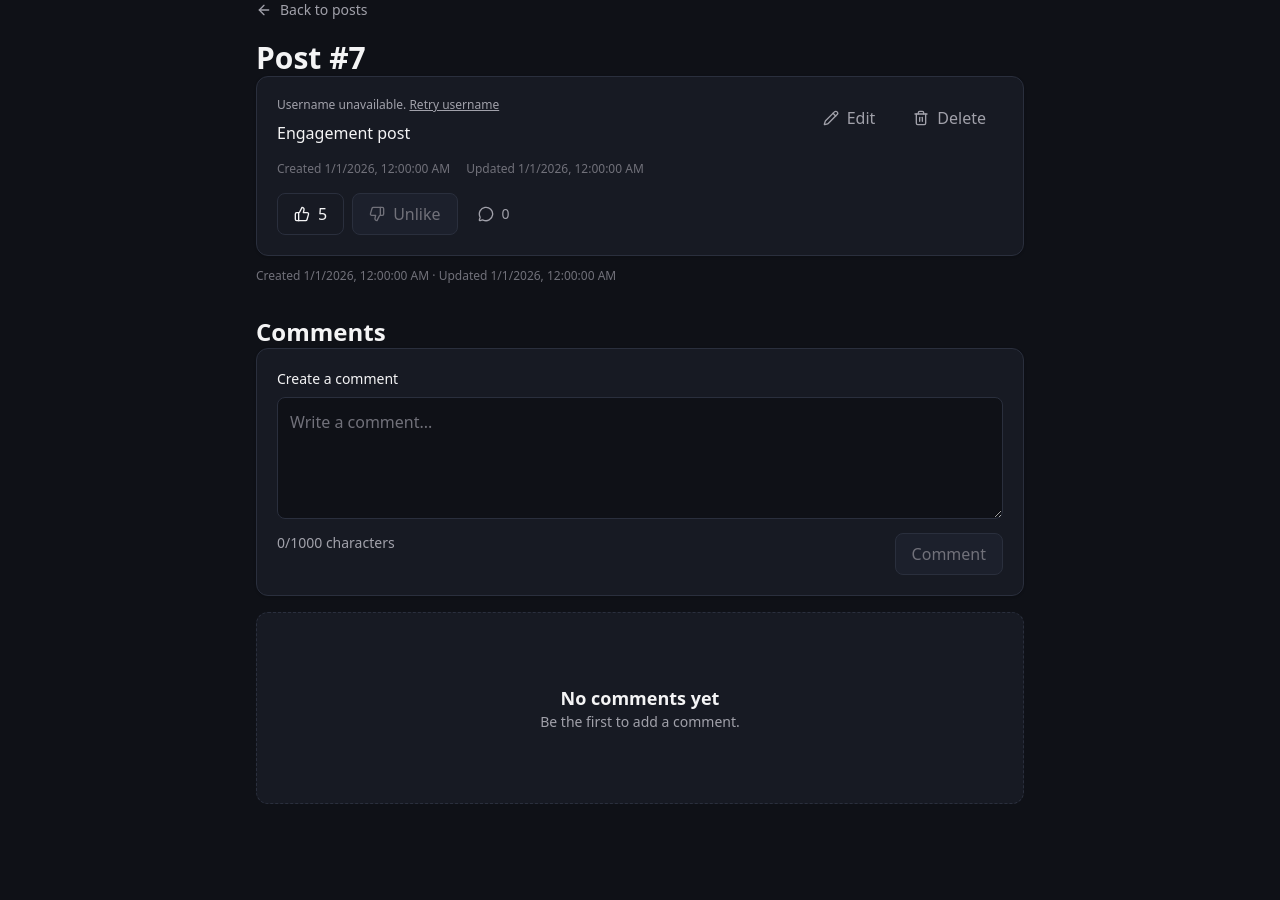
Test: Phase 4 engagement summaries › refreshes the parent post comment count after comment creation and deletion
Expected: the link named "0 comments on post 7" is shown, [478, 204, 510, 223]
Type "Created comment" into the text box labelled "Create a comment" at (640, 458), box [277, 397, 1003, 519]
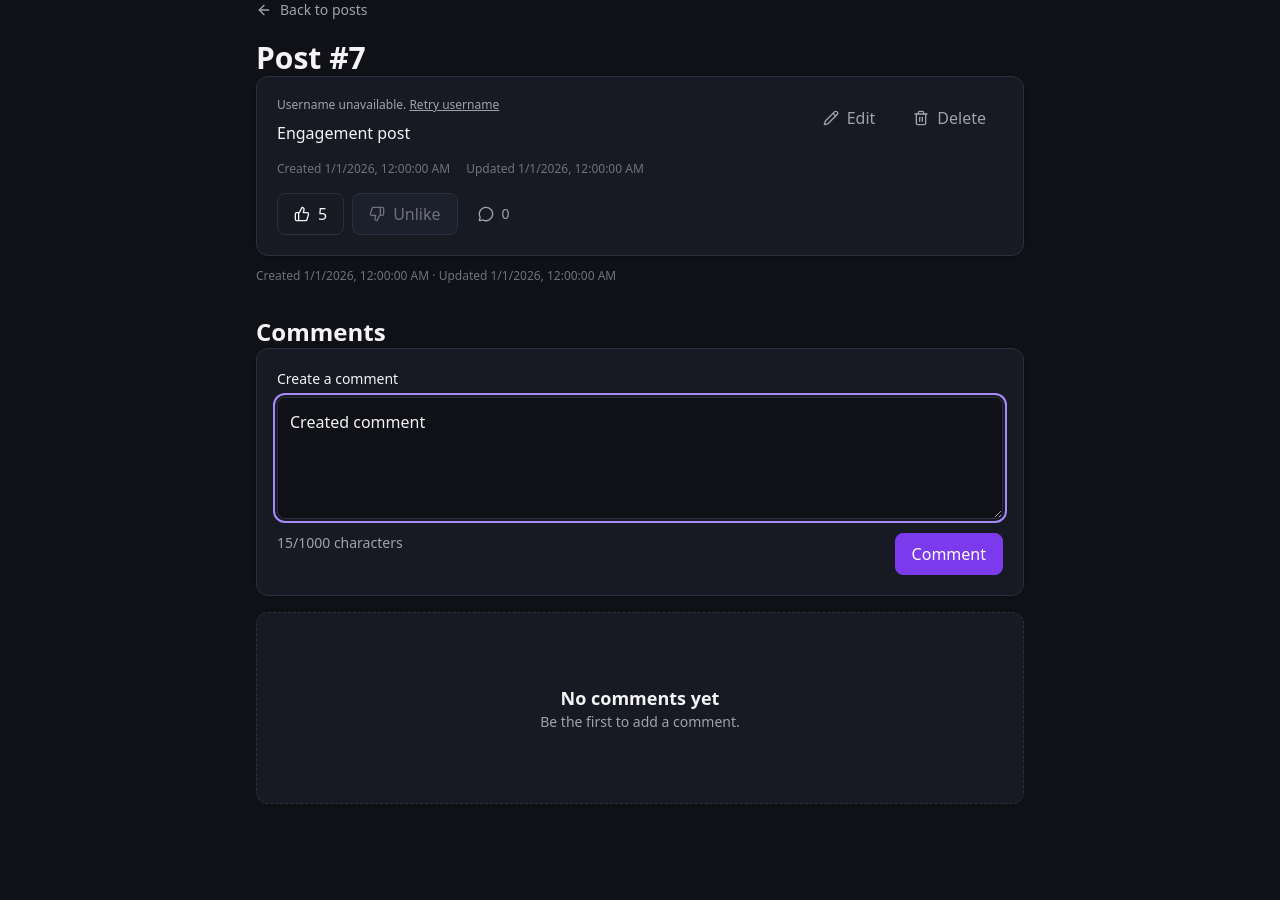
Click the button "Comment" at (949, 554), box [895, 533, 1003, 575]
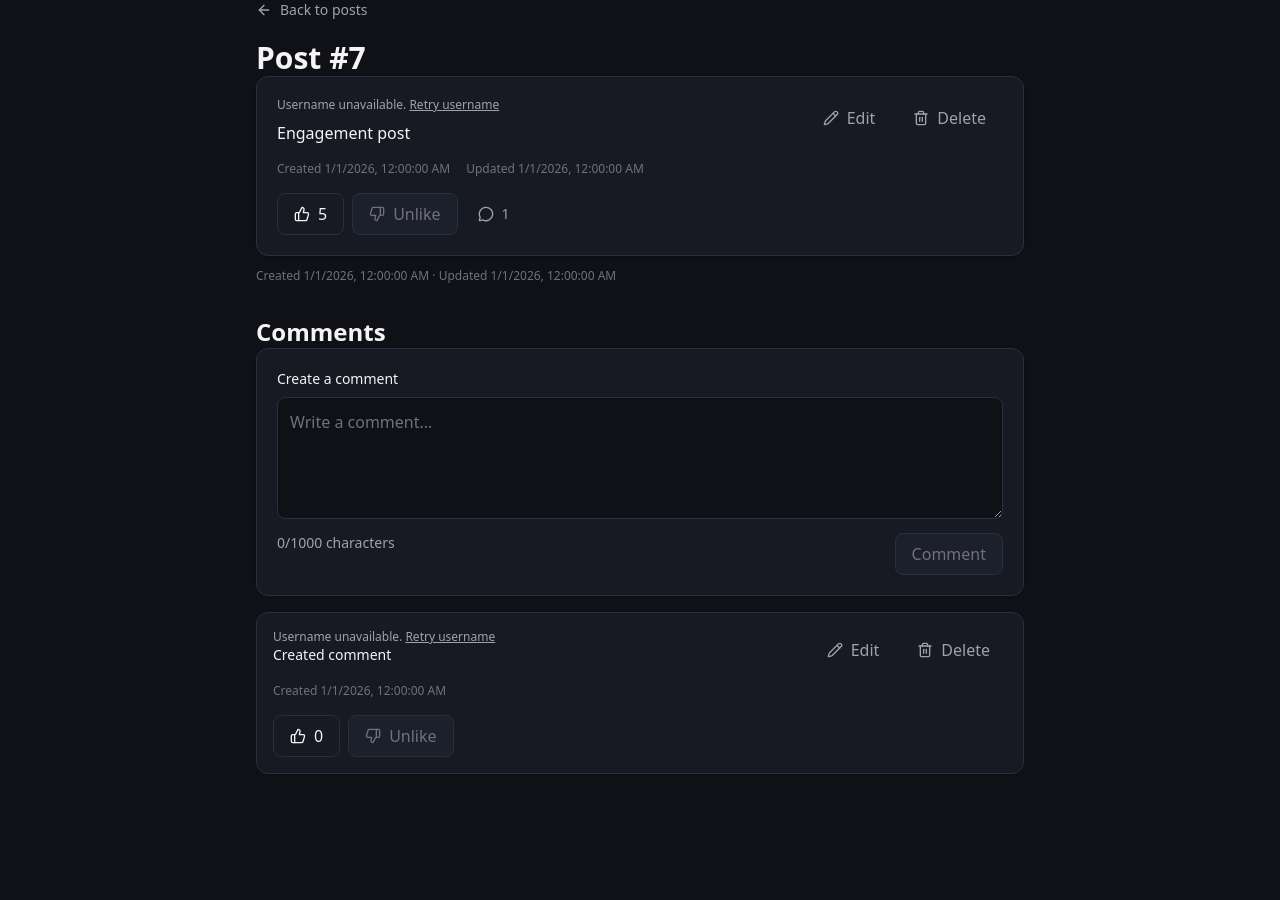
Now the link named "1 comments on post 7" is shown, box [478, 204, 510, 223]
Type "Unfinished draft" into the text box labelled "Create a comment" at (640, 458), box [277, 397, 1003, 519]
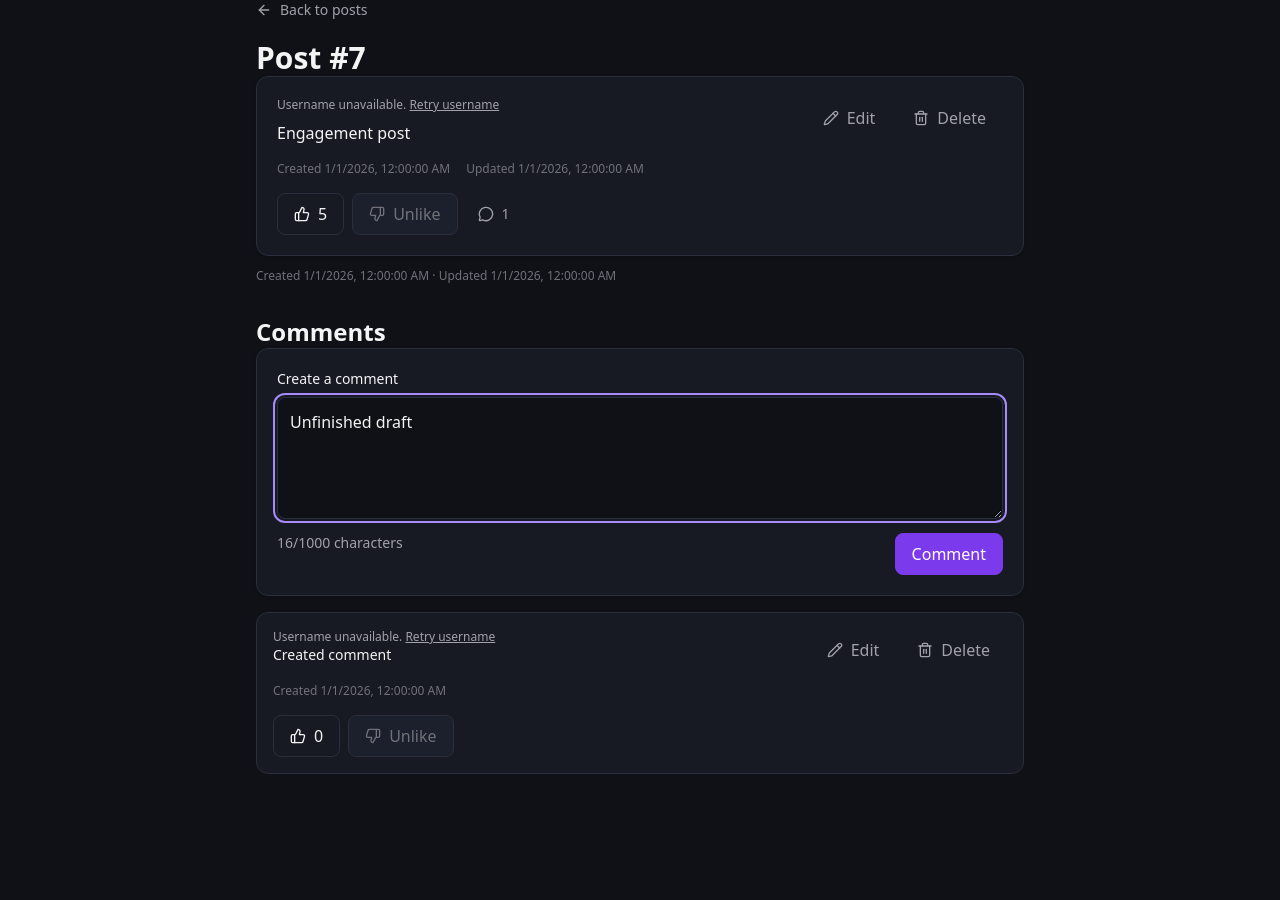
Click the button with aria-label "Delete comment 3" at (954, 650), box [900, 629, 1007, 671]
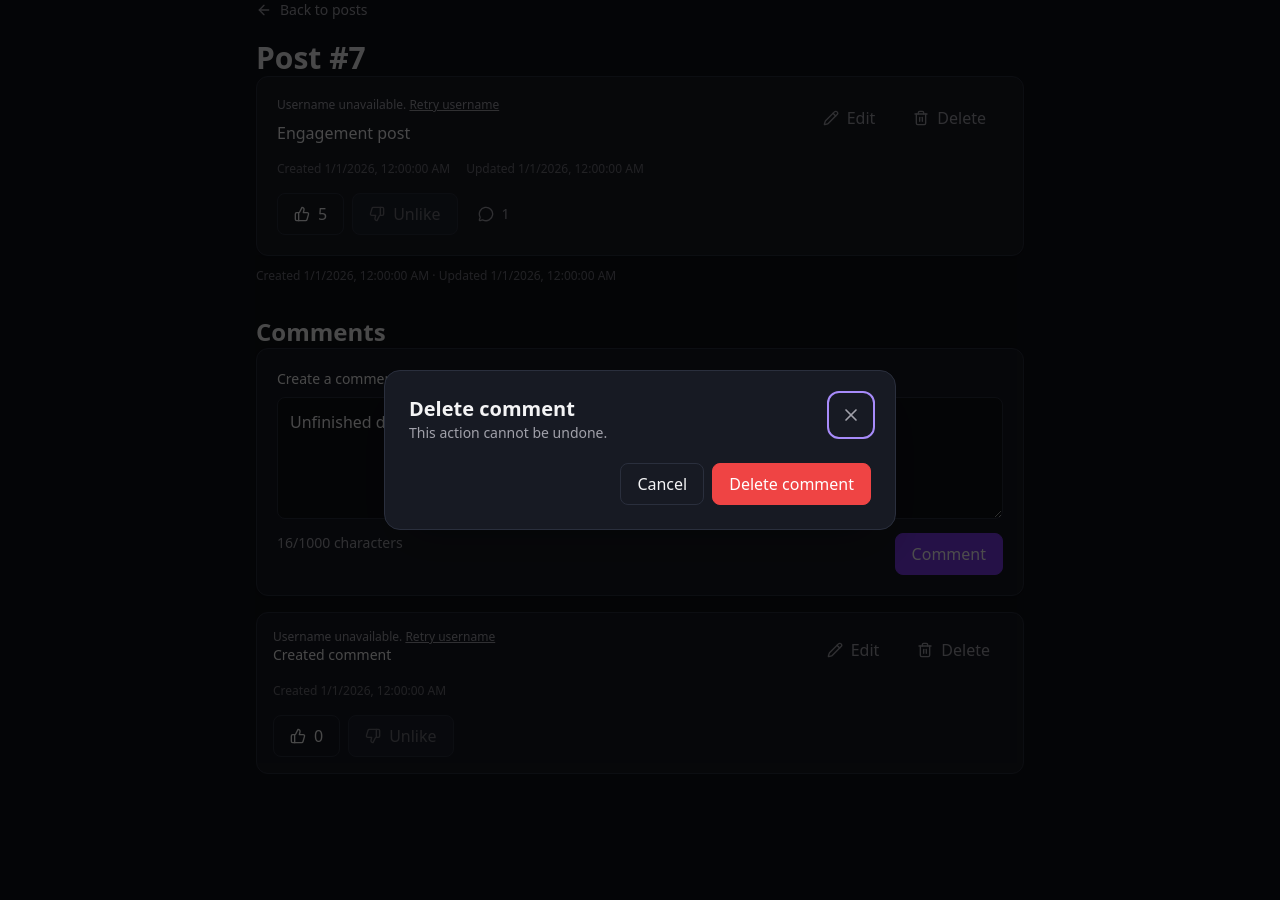
Click the button "Delete comment" at (792, 484), box [712, 463, 871, 505]
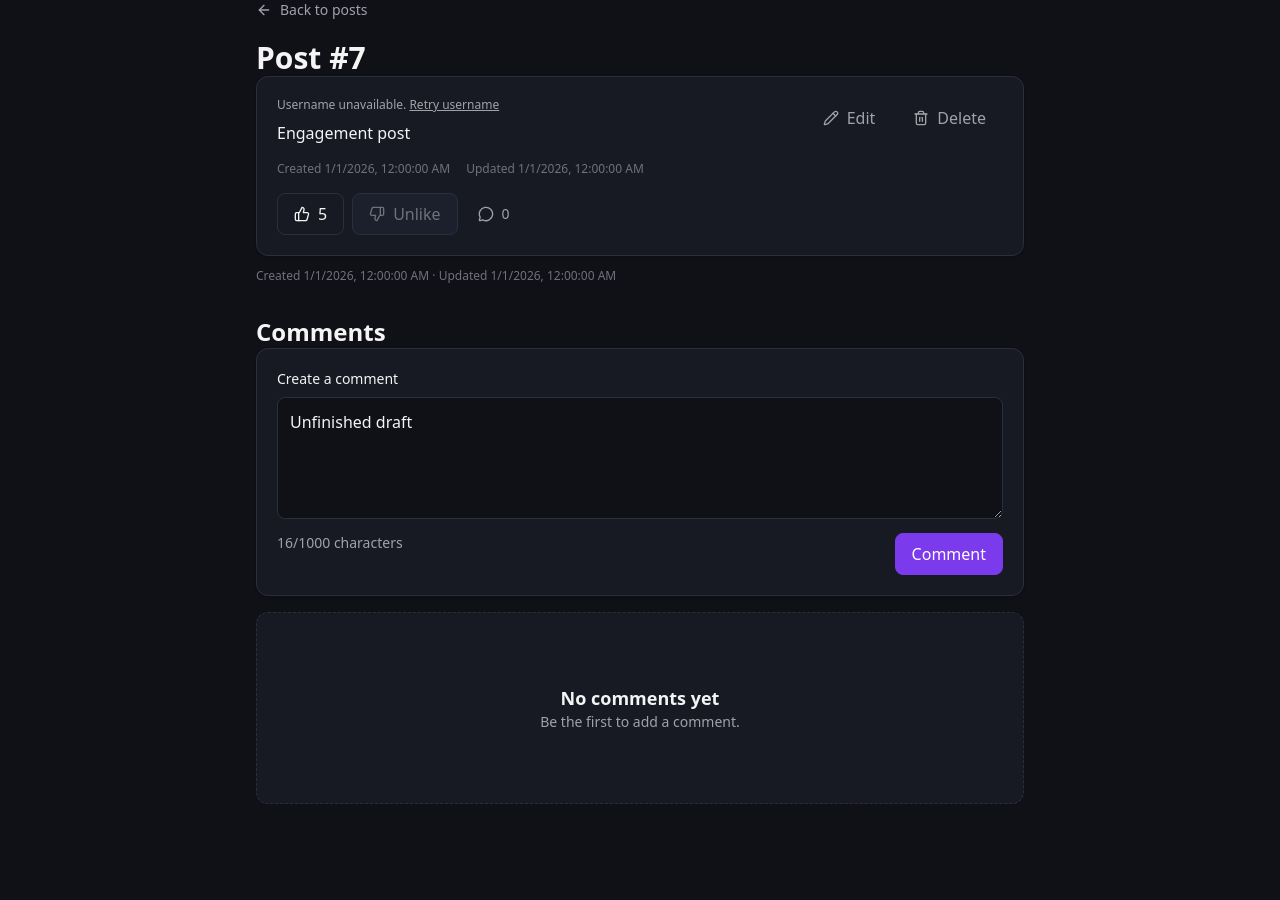
Now the link named "0 comments on post 7" is shown, box [478, 204, 510, 223]
